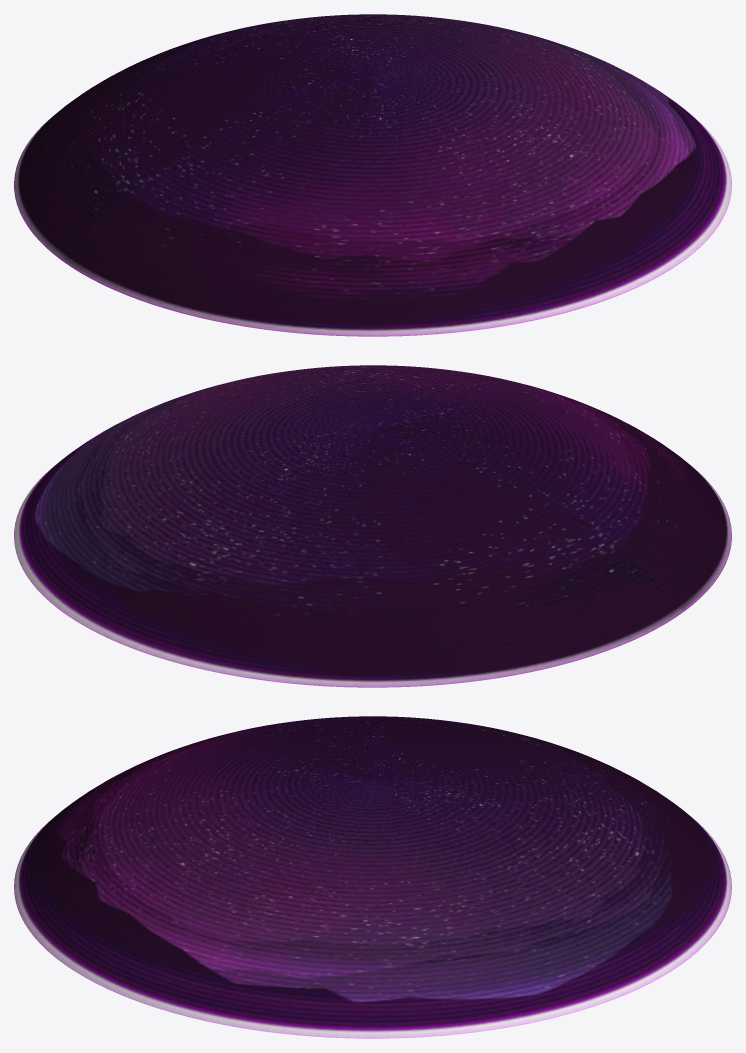
Rendered from SkyBox.glb.
3 views of the same model, one above another, from view 1: azimuth 30°, elevation 25°; view 2: azimuth 150°, elevation 25°; view 3: azimuth 270°, elevation 25° (orthographic).
Visible parts, largest first — view 1: Sphere; view 2: Sphere; view 3: Sphere.
Part boxes in pixels (bbox=[...]): Sphere: bbox=[14, 14, 731, 336]; Sphere: bbox=[14, 365, 731, 687]; Sphere: bbox=[14, 716, 731, 1038].
Size of the model in its own units: 504 by 82.56 by 504.
1 material, 1 textured.
